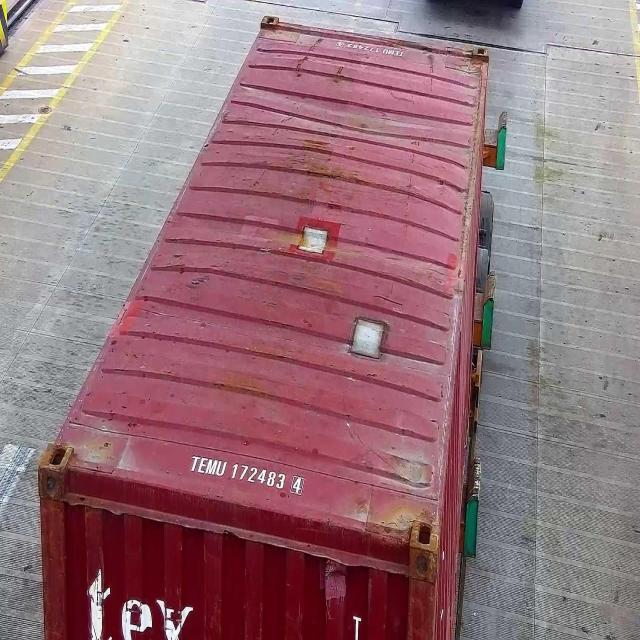dent: (261, 57, 460, 165)
